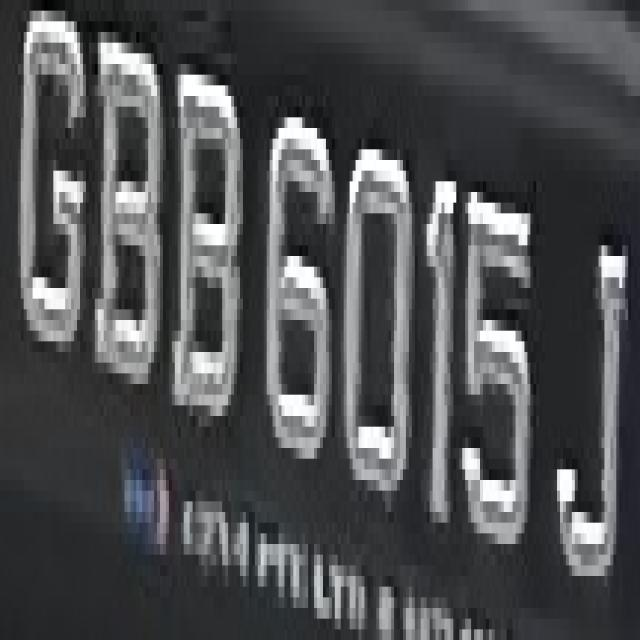0: (332, 74, 412, 554)
1: (430, 107, 459, 565)
5: (465, 128, 539, 587)
6: (261, 85, 332, 491)
B: (172, 11, 249, 437), (83, 21, 166, 416)
G: (9, 11, 92, 394)
J: (545, 171, 631, 618)
